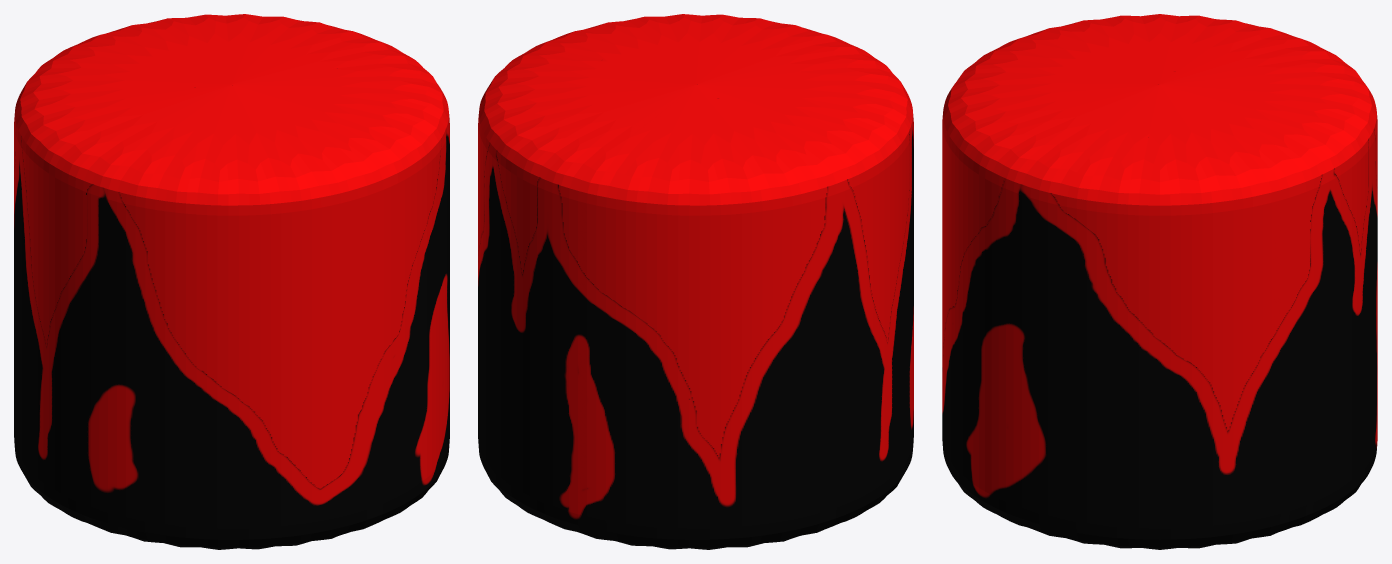
The model's file is smoke-flipped.fbx.
The picture shows the model from 3 angles, left to right: view 1: azimuth 30°, elevation 25°; view 2: azimuth 150°, elevation 25°; view 3: azimuth 270°, elevation 25°; orthographic projection.
Parts seen in each view (by area): view 1: Cylinder; view 2: Cylinder; view 3: Cylinder.
Boxes of the visible parts, <box> form: Cylinder: <box>14,14,449,549</box>; Cylinder: <box>478,14,913,549</box>; Cylinder: <box>942,14,1377,549</box>.
Bounding box in the file's own units: 199 × 199 × 199.
